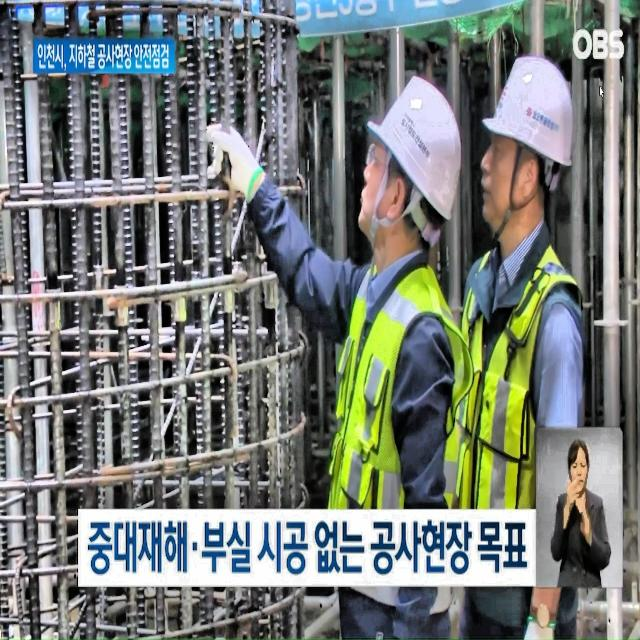safety_helmet: (476, 32, 609, 195), (359, 77, 468, 225)
safety_jacket: (442, 252, 594, 631), (334, 252, 488, 609)
